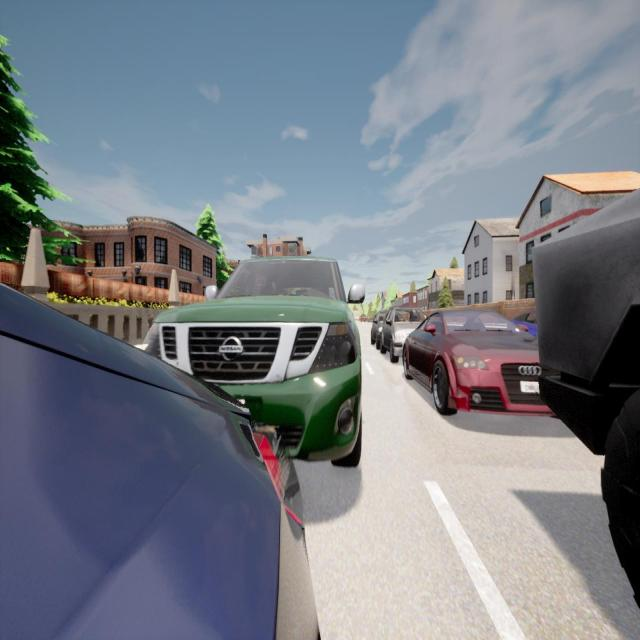Vehicle: (0, 278, 322, 640), (141, 257, 366, 469), (534, 189, 640, 606), (403, 307, 557, 415), (384, 307, 426, 363), (510, 308, 538, 338), (369, 311, 389, 351), (359, 311, 367, 323)
